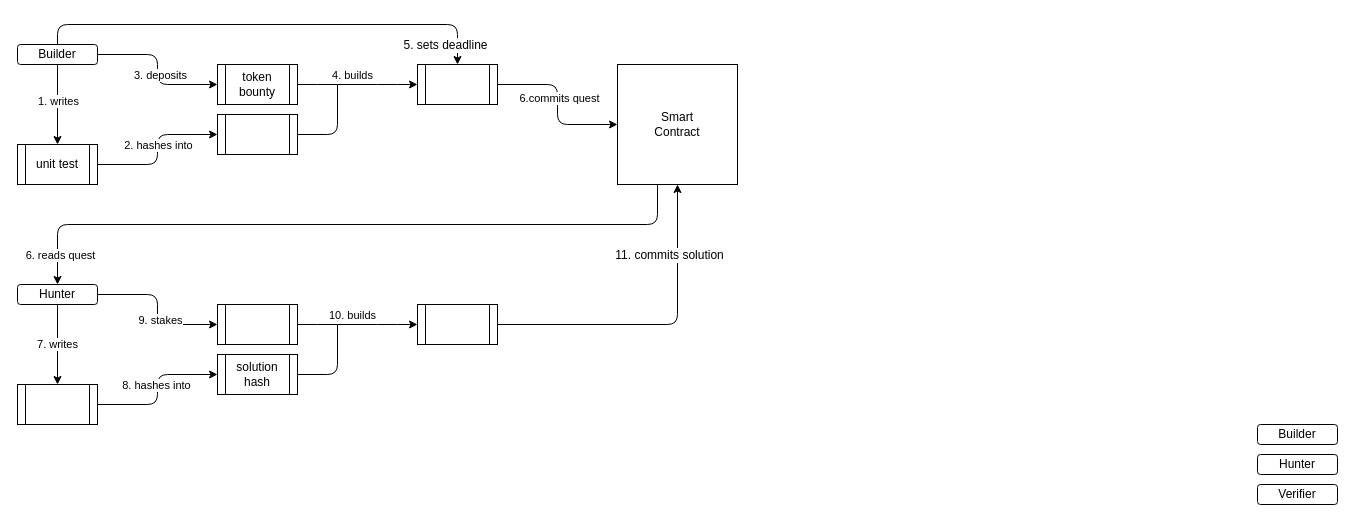
Image size: 1355x522. Some labels were removed from this diagram. Each missing label, with the centre of its shape:
bounty quest zkp: pixel 457 84
solution: pixel 57 404
solution zkp: pixel 457 324
tokens: pixel 257 324
unit test hash: pixel 257 134
